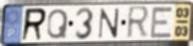3: (74, 6, 96, 41)
E: (149, 6, 175, 40)
N: (97, 7, 121, 39)
Q: (46, 8, 70, 41)
R: (19, 7, 48, 43), (125, 5, 152, 42)
